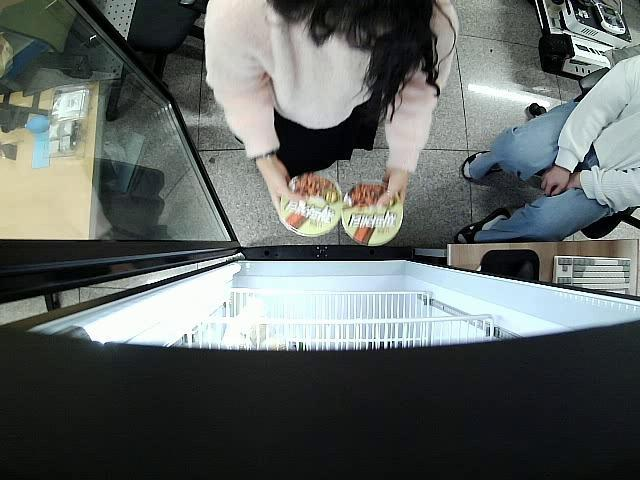03_chapagetti_L: (278, 172, 342, 237), (340, 182, 402, 245)
